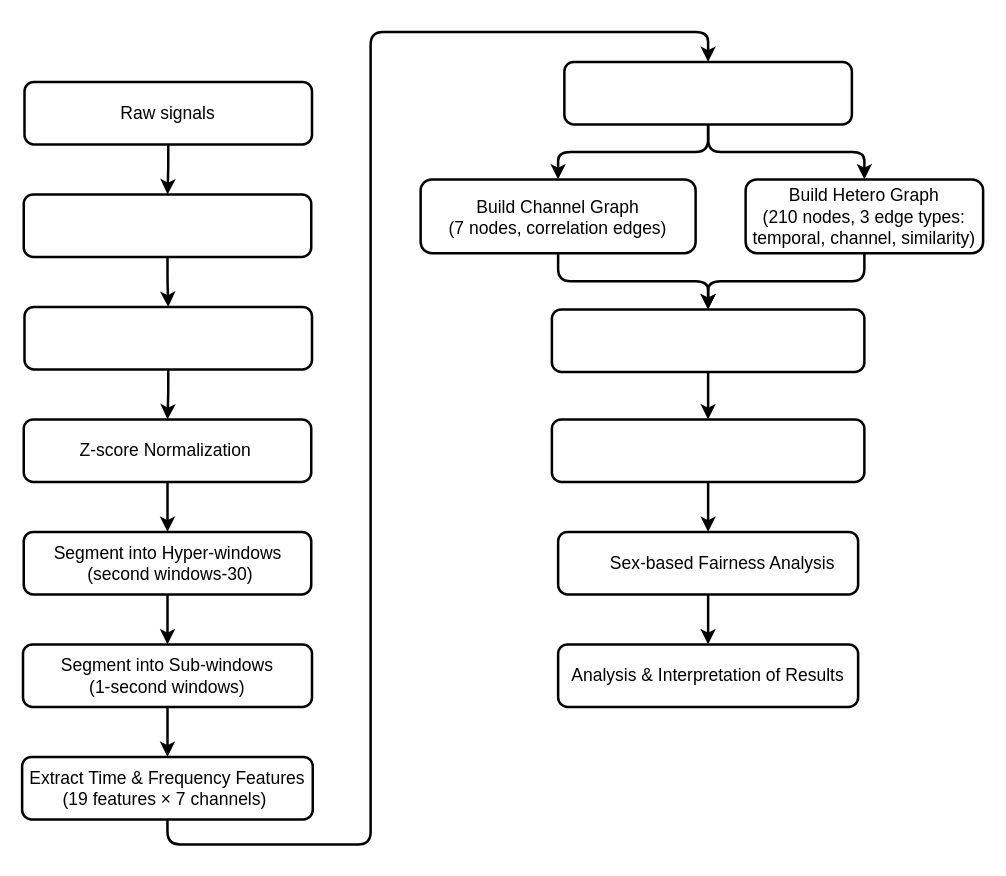
The diagram is 1006 pixels wide and 876 high, and some of its shapes have lost their labels. Here are the shapes that lost their labels. From the top down, the centre of each, then its label:
At [707,92]: "Feature Scaling (RobustScaler)".
At [167,225]: "Select Common Frontal Channels (Fp1, Fp2, F7, F3, Fz, F4, F8)".
At [168,337]: "Synchronize Sampling Rate (500 → 250 Hz)".
At [707,340]: "Implementing GCN and GAT, Compare with LSTM baseline".
At [707,450]: "Evaluate: Accuracy, F1, ROC-AUC, PR-AUC".
